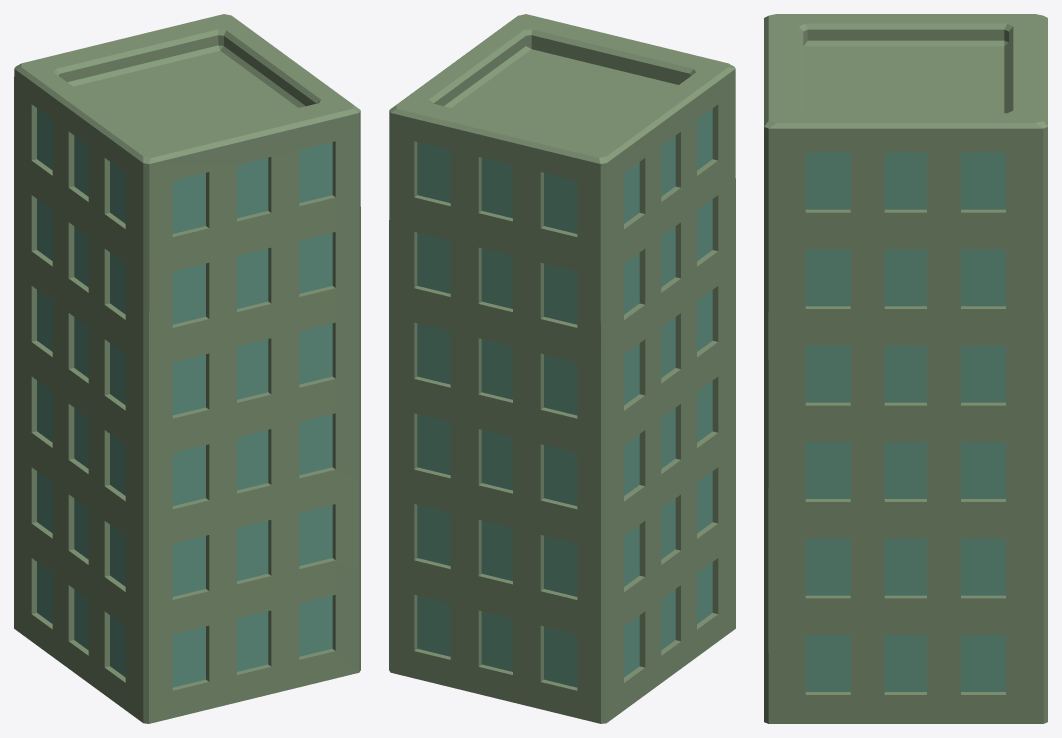
File: building1.fbx
The picture shows the model from 3 angles, left to right: view 1: azimuth 30°, elevation 25°; view 2: azimuth 150°, elevation 25°; view 3: azimuth 270°, elevation 25°; orthographic projection. The views are drawn at different scales.
Visible parts, largest first — view 1: building1; view 2: building1; view 3: building1.
Part boxes in pixels (x1,y1,x2,y2): building1: (14, 14, 360, 723); building1: (389, 14, 735, 723); building1: (764, 14, 1047, 723).
Bounding box in the file's own units: 3886 × 9620 × 4132.
